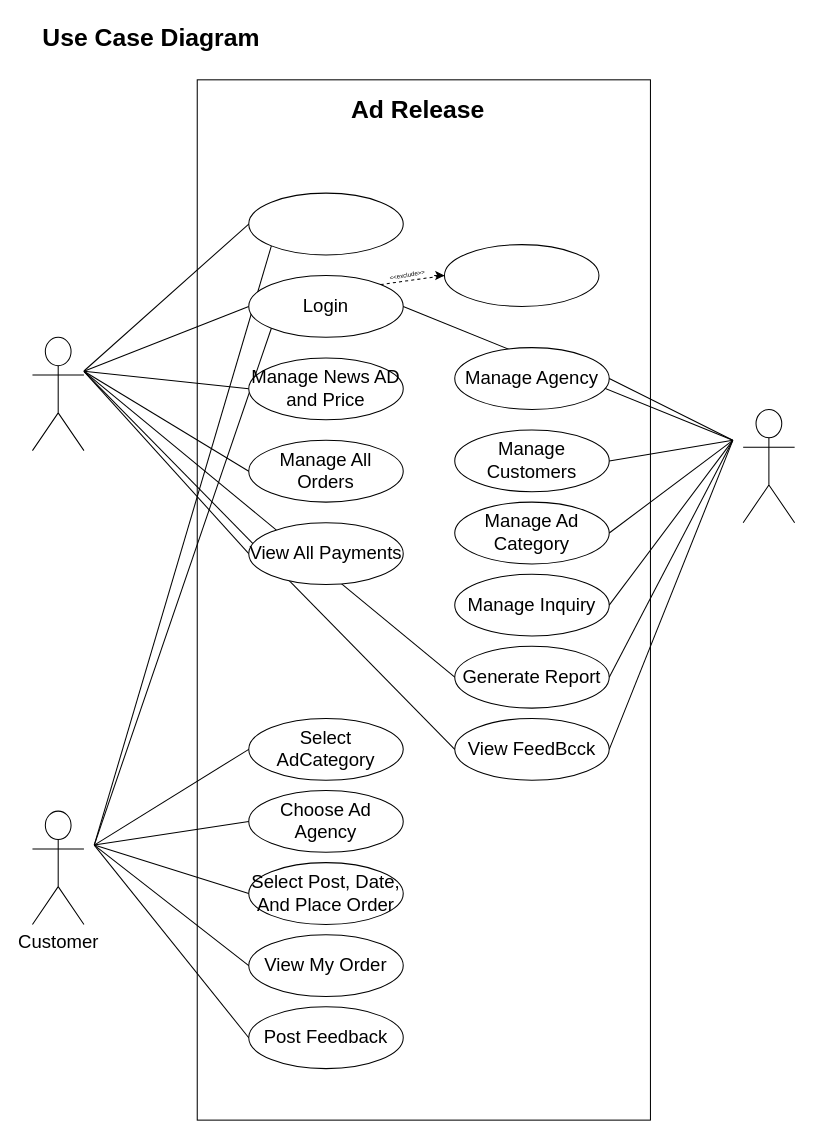
The diagram is 813 pixels wide and 1138 high, and some of its shapes have lost their labels. Here are the shapes that lost their labels. From the top down, the centre of each, then its label:
(325,223): Registration
(521,275): Change Password
(57,393): Agency
(768,465): Admin
